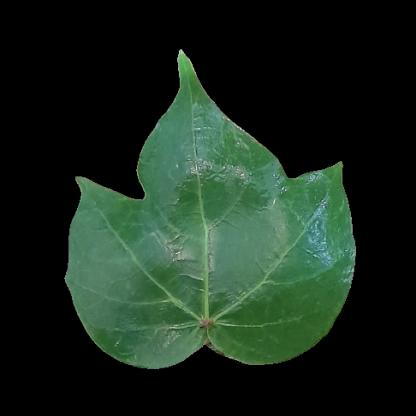healthy: (85, 218, 237, 324), (248, 178, 337, 320), (164, 122, 235, 213)
